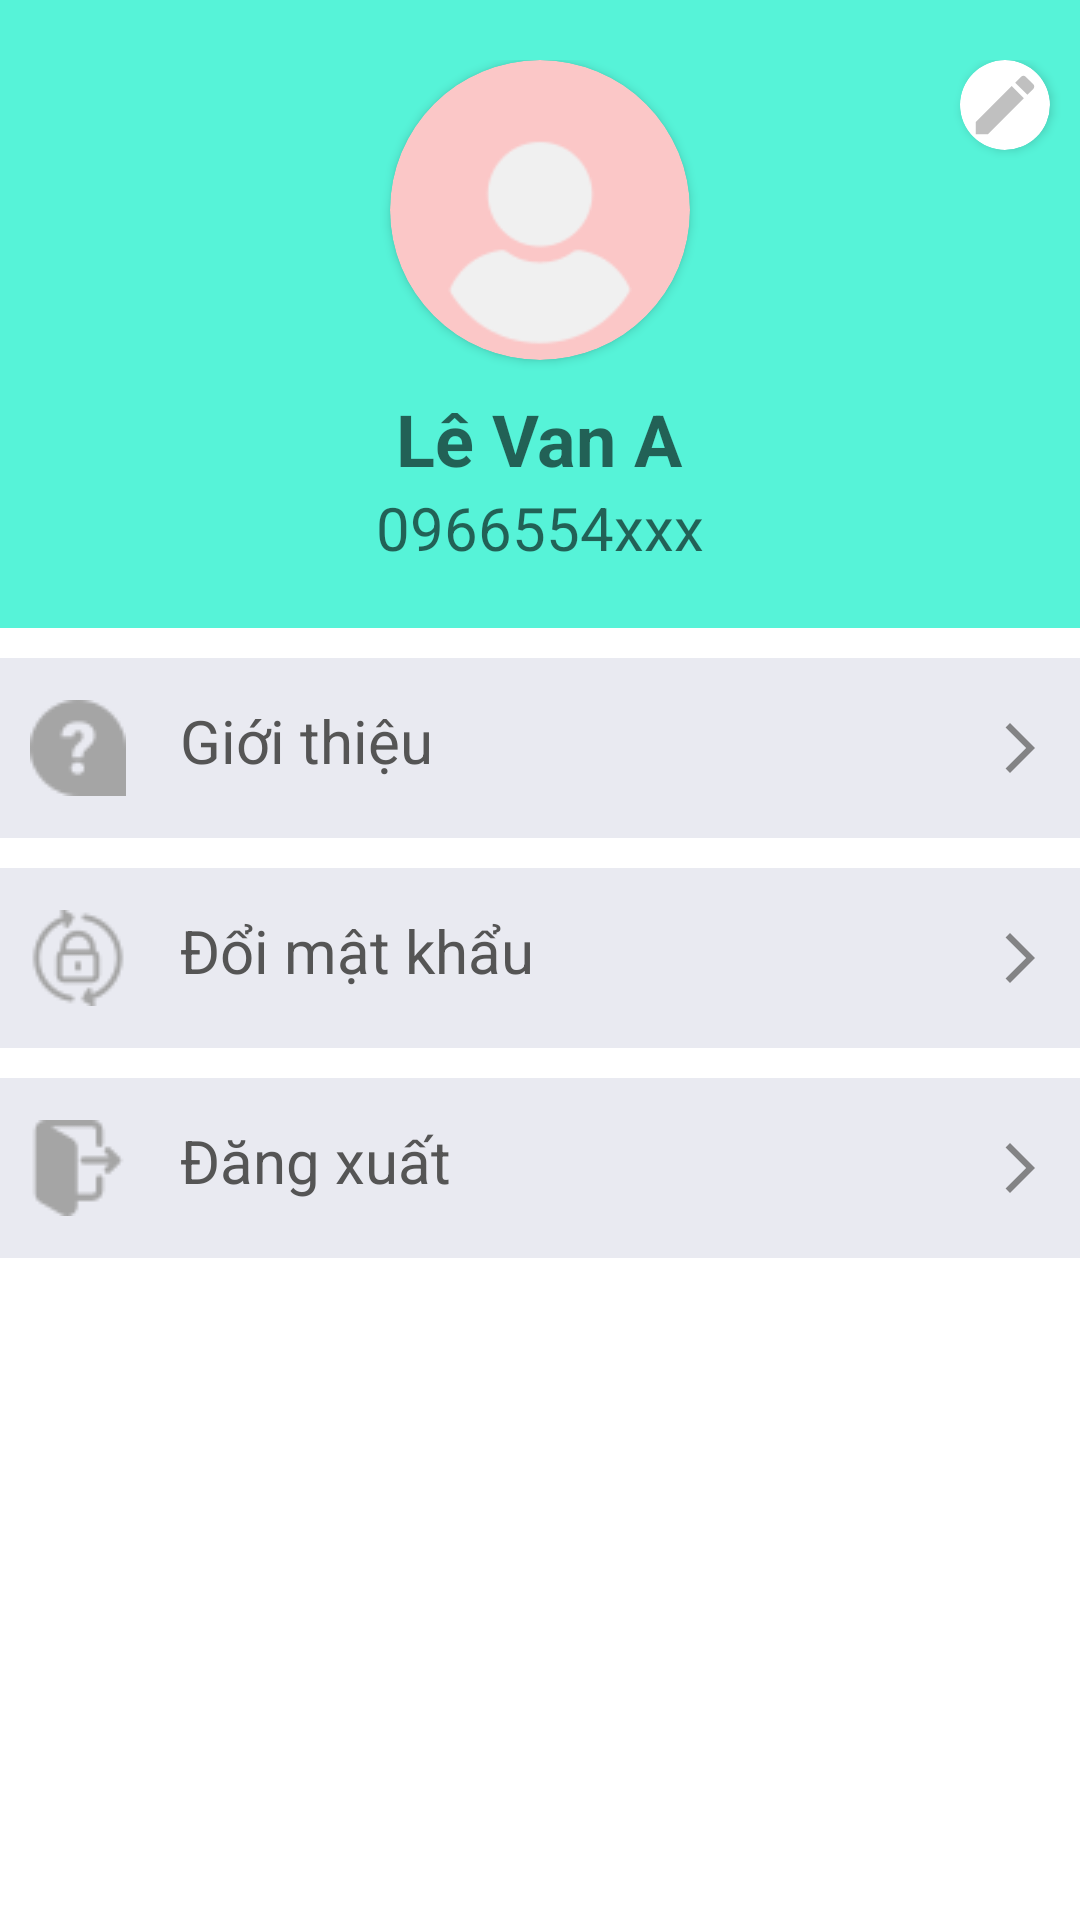

Icons on this 1080 x 1920 Android screen, each with its box as (x1, y1, x2, y2):
arrow forward: (1006, 723, 1035, 773), (1006, 933, 1035, 983), (1006, 1143, 1035, 1193)
introduce: (30, 700, 126, 796)
mode edit: (960, 60, 1050, 150)
profile: (390, 60, 690, 360)
resetpassword: (33, 910, 123, 1006)
